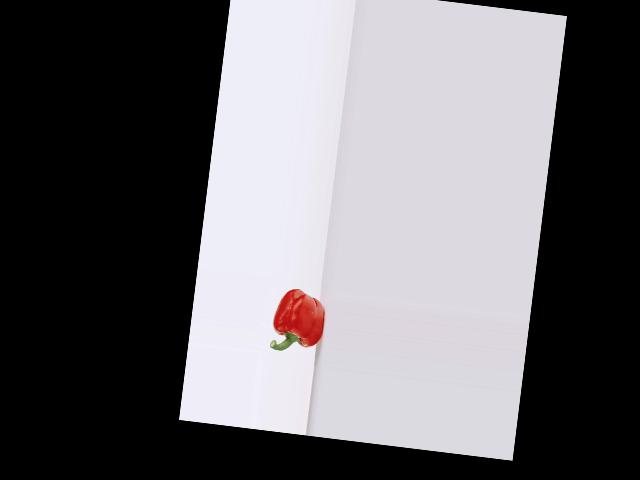bell_pepper: (266, 283, 330, 361)
